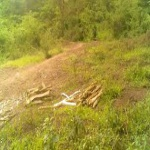Uncultivated: (5, 19, 147, 148)
